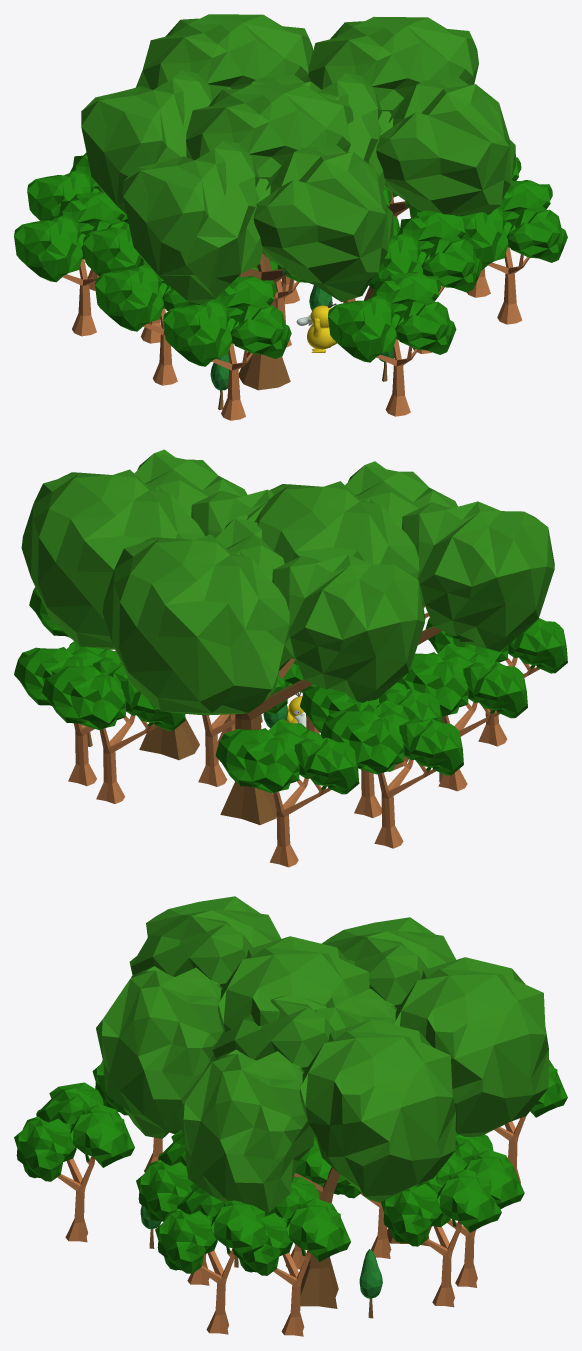
File: ForestModel.glb
3 renders of one model, top to bottom at view 1: azimuth 30°, elevation 25°; view 2: azimuth 150°, elevation 25°; view 3: azimuth 270°, elevation 25°, orthographic. The views are drawn at different scales.
Parts seen in each view (by area): view 1: Tree_average_lush, Tree_average_lush.001, Tree_average_lush.002, Tree_average_regular.011, Tree_average_regular.009, Tree_average_regular.012, Tree_average_regular.008, Tree_average_regular.013, Tree_average_regular.002, Tree_average_regular.006, Tree_average_regular.001, psyduck (+3 smaller); view 2: Tree_average_lush.002, Tree_average_lush, Tree_average_lush.001, Tree_average_regular.006, Tree_average_regular.008, Tree_average_regular.002, Tree_average_regular.003, Tree_average_regular.004, Tree_average_regular.001, Tree_average_regular.009, Tree_average_regular, Tree_average_regular.010; view 3: Tree_average_lush.001, Tree_average_lush, Tree_average_lush.002, Tree_average_regular.011, Tree_average_regular.012, Tree_average_regular.004, Tree_average_regular.010, Tree_average_regular.003, Tree_average_regular.013, Tree_average_regular.006, Tree_average_regular.005, Tree_small_regular.004 (+2 smaller).
Boxes of the visible parts, x1,y1,x2,y2 form: Tree_average_lush: (123,84,393,390); Tree_average_lush.001: (306,16,516,300); Tree_average_lush.002: (81,14,321,213); Tree_average_regular.011: (328,272,456,416); Tree_average_regular.009: (163,276,291,420); Tree_average_regular.012: (461,180,567,324); Tree_average_regular.008: (14,191,127,336); Tree_average_regular.013: (369,210,482,353); Tree_average_regular.002: (95,257,199,385); Tree_average_regular.006: (27,152,127,290); Tree_average_regular.001: (83,221,161,343); psyduck: (296,301,337,352); Tree_average_lush.002: (102,514,425,824); Tree_average_lush: (255,461,554,771); Tree_average_lush.001: (21,449,273,760); Tree_average_regular.006: (215,719,359,867); Tree_average_regular.008: (321,700,463,848); Tree_average_regular.002: (397,643,527,791); Tree_average_regular.003: (42,656,185,803); Tree_average_regular.004: (14,641,128,786); Tree_average_regular.001: (300,682,442,817); Tree_average_regular.009: (425,618,567,746); Tree_average_regular: (198,676,287,786); Tree_average_regular.010: (29,587,116,651); Tree_average_lush.001: (177,994,455,1308); Tree_average_lush: (96,896,369,1138); Tree_average_lush.002: (315,917,548,1246); Tree_average_regular.011: (14,1082,134,1242); Tree_average_regular.012: (155,1183,265,1334); Tree_average_regular.004: (381,1152,501,1307); Tree_average_regular.010: (233,1176,350,1336); Tree_average_regular.003: (413,1131,524,1287); Tree_average_regular.013: (136,1130,209,1285); Tree_average_regular.006: (494,1059,567,1183); Tree_average_regular.005: (285,1136,350,1269); Tree_small_regular.004: (359,1249,382,1318).
Size of the model in its own units: 26.57 by 15.39 by 26.36.
